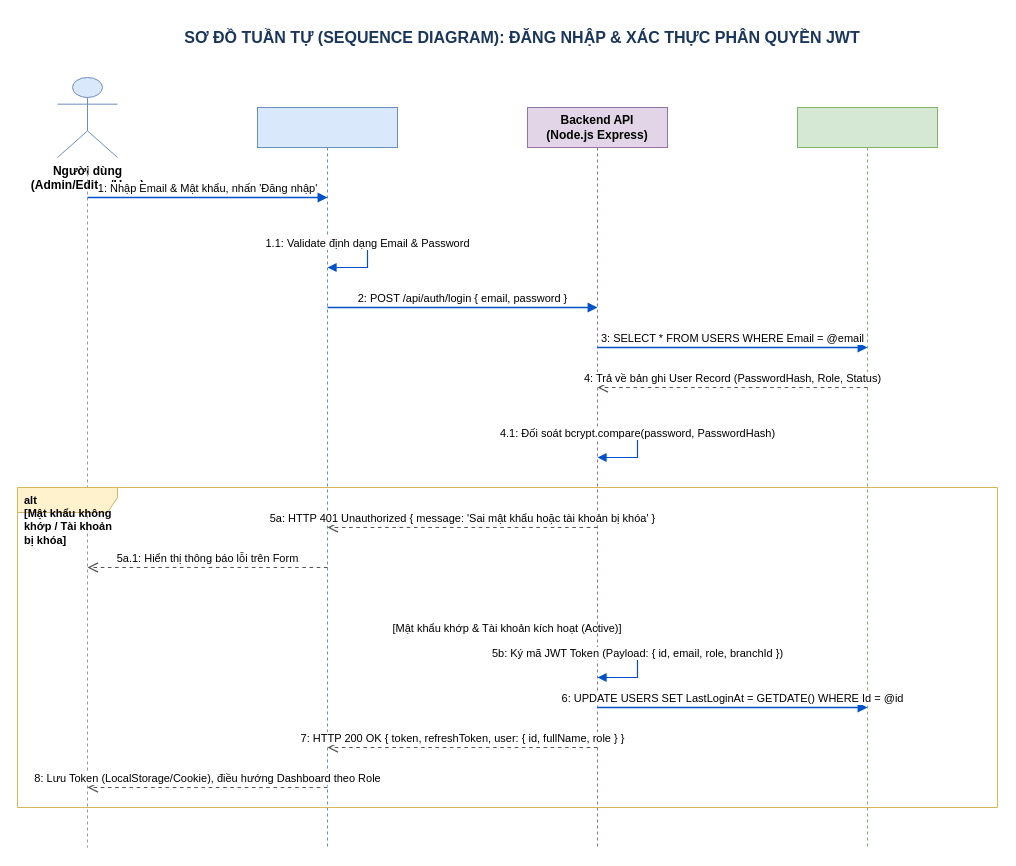
This 1016x866 diagram has some shape labels left out. Each missing label, with the box of its shape:
Database Server (MSSQL 2022): (796, 106, 938, 848)
Frontend Web UI (React 18 SPA): (256, 106, 398, 848)
